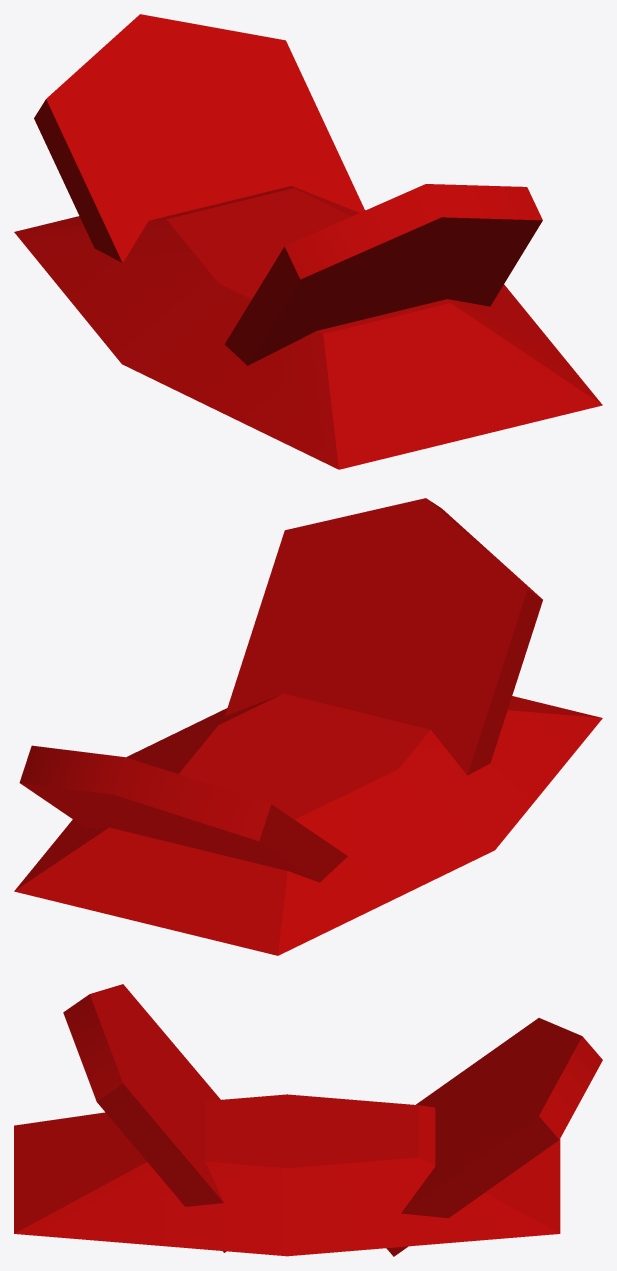
File: SM_Prop_Barrel_Broken_02_Collision.gltf
3 renders of one model, top to bottom at view 1: azimuth 30°, elevation 25°; view 2: azimuth 150°, elevation 25°; view 3: azimuth 270°, elevation 25°, orthographic. The views are drawn at different scales.
Visible parts, largest first — view 1: SM_Prop_Barrel_Broken_02_Collision; view 2: SM_Prop_Barrel_Broken_02_Collision; view 3: SM_Prop_Barrel_Broken_02_Collision.
Part boxes in pixels (x1,y1,x2,y2): SM_Prop_Barrel_Broken_02_Collision: [14, 14, 602, 469]; SM_Prop_Barrel_Broken_02_Collision: [14, 498, 602, 955]; SM_Prop_Barrel_Broken_02_Collision: [14, 984, 602, 1256].
Bounding box in the file's own units: 1.24 × 0.7926 × 2.01.
